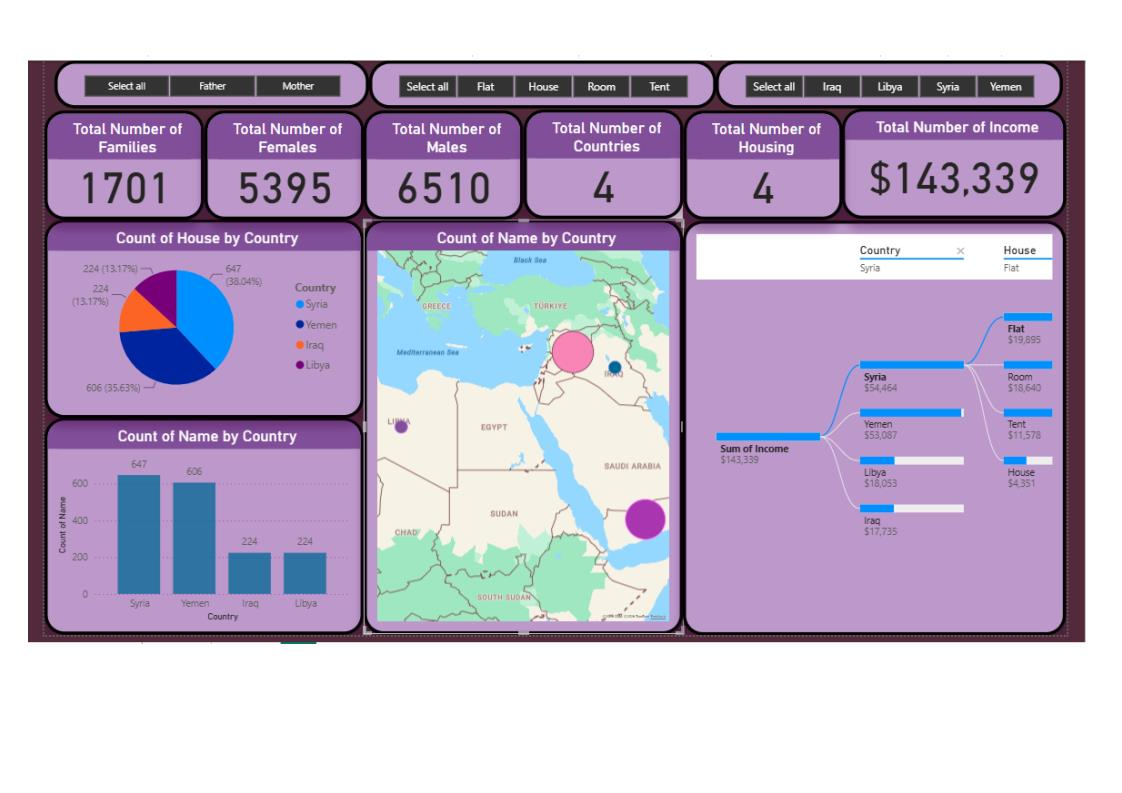

Layout of this report page (visuals, bound fields, positions):
{"tool":"powerbi","page":{"name":"Overview","canvas":[1280,720],"ordinal":0},"visuals":[{"type":"shape","box":[0,70.7,141.4,649],"z":0},{"type":"shape","box":[0,0,1280,70.7],"z":1000},{"type":"actionButton","box":[0,86.1,141.4,52.7],"z":2000},{"type":"image","box":[0,0,64.3,52.7],"z":3000},{"type":"textbox","box":[64.3,0,260.9,61.7],"z":4000},{"type":"actionButton","box":[0,128.5,141.4,52.7],"z":5000},{"type":"actionButton","box":[0,172.2,141.4,52.7],"z":6000},{"type":"textbox","box":[343.1,12.9,546.2,47.6],"z":7000},{"type":"textbox","box":[929.2,21.8,332.9,34.7],"z":8000},{"type":"card","title":"Families Total","fields":{"Values":["CountNonNull(Needs.Name)"]},"box":[142.7,69.4,182.5,101.5],"z":9000},{"type":"card","title":"Average Income","fields":{"Values":["Avg(Needs.Income)"]},"box":[1055.1,69.4,223,101.5],"z":10000},{"type":"card","title":"Total Countries","fields":{"Values":["Count(Needs.Country)"]},"box":[507.6,69.4,182.5,101.5],"z":11000},{"type":"card","title":"Avg. Family size","fields":{"Values":["Avg(Needs.Total family members)"]},"box":[690.1,70.7,182.5,101.5],"z":12000},{"type":"card","title":"Total Cities","fields":{"Values":["Count(Needs.City)"]},"box":[325.1,70.7,182.5,101.5],"z":13000},{"type":"card","title":"Housing Types","fields":{"Values":["Count(Needs.House)"]},"box":[872.6,69.4,182.5,101.5],"z":14000},{"type":"areaChart","title":"Average Income for Working families by Total family members","fields":{"Category":["Needs.Total family members"],"Y":["Avg(Needs.Income)","Sum(Needs.Work/Yes)"]},"box":[142.7,170.9,638.7,246.7],"z":15000},{"type":"pieChart","fields":{"Category":["Needs.Breadwinner"],"Y":["Sum(Needs.Total family members)"]},"box":[781.4,170.9,497.3,246.7],"z":16000},{"type":"clusteredColumnChart","fields":{"Category":["Needs.Country"],"Y":["Sum(Needs.Income)"]},"box":[143,418,639,302],"z":17000},{"type":"funnel","fields":{"Category":["Needs.City"],"Y":["Sum(Needs.Income)"]},"box":[782,418,496,302],"z":18000},{"type":"slicer","fields":{"Values":["Needs.House"]},"box":[0,233.9,141.4,212],"z":19000},{"type":"slicer","fields":{"Values":["Needs.Country"]},"box":[0,488.4,141.4,212],"z":20000}]}

Visuals, with their boxes on the page's 1280x720 design canvas (x1, y1, x2, y2). These are canvas units, not pixel positions in the 1122x793 screenshot, which may show the page scaled, cropped or inside an application window:
shape: 0, 71, 141, 720
shape: 0, 0, 1280, 71
actionButton: 0, 86, 141, 139
image: 0, 0, 64, 53
textbox: 64, 0, 325, 62
actionButton: 0, 128, 141, 181
actionButton: 0, 172, 141, 225
textbox: 343, 13, 889, 60
textbox: 929, 22, 1262, 56
"Families Total" card: 143, 69, 325, 171
"Average Income" card: 1055, 69, 1278, 171
"Total Countries" card: 508, 69, 690, 171
"Avg. Family size" card: 690, 71, 873, 172
"Total Cities" card: 325, 71, 508, 172
"Housing Types" card: 873, 69, 1055, 171
"Average Income for Working families by Total family members" areaChart: 143, 171, 781, 418
pieChart - Needs.Breadwinner x Sum(Needs.Total family members): 781, 171, 1279, 418
clusteredColumnChart - Needs.Country x Sum(Needs.Income): 143, 418, 782, 720
funnel - Needs.City x Sum(Needs.Income): 782, 418, 1278, 720
slicer - Needs.House: 0, 234, 141, 446
slicer - Needs.Country: 0, 488, 141, 700
